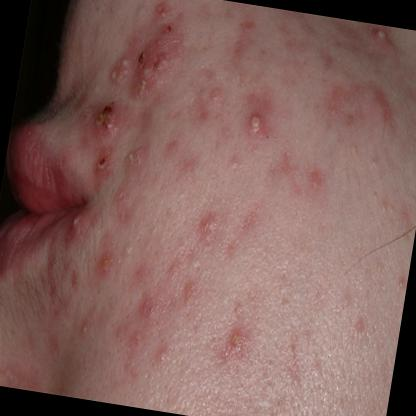Acne: (60, 205, 90, 242), (218, 323, 246, 359), (104, 50, 130, 87), (92, 102, 117, 137), (117, 141, 140, 174), (89, 148, 114, 177), (243, 108, 267, 137), (370, 24, 390, 51), (198, 211, 217, 237)
